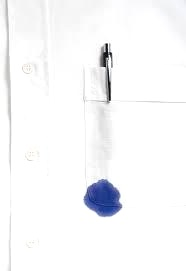ink: (84, 180, 122, 216)
